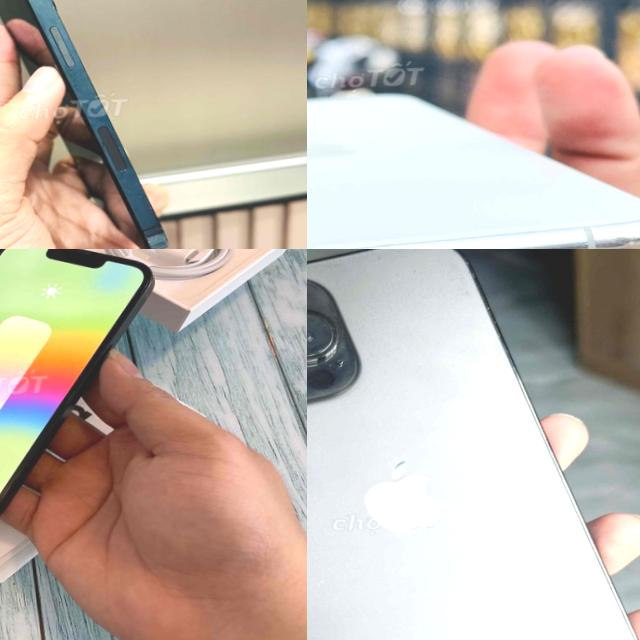gen_11: (307, 77, 640, 249)
gen_12_13: (0, 249, 166, 534), (0, 0, 187, 249)
gen_14: (307, 249, 640, 640)
scratch: (353, 249, 478, 311), (561, 223, 640, 249)
